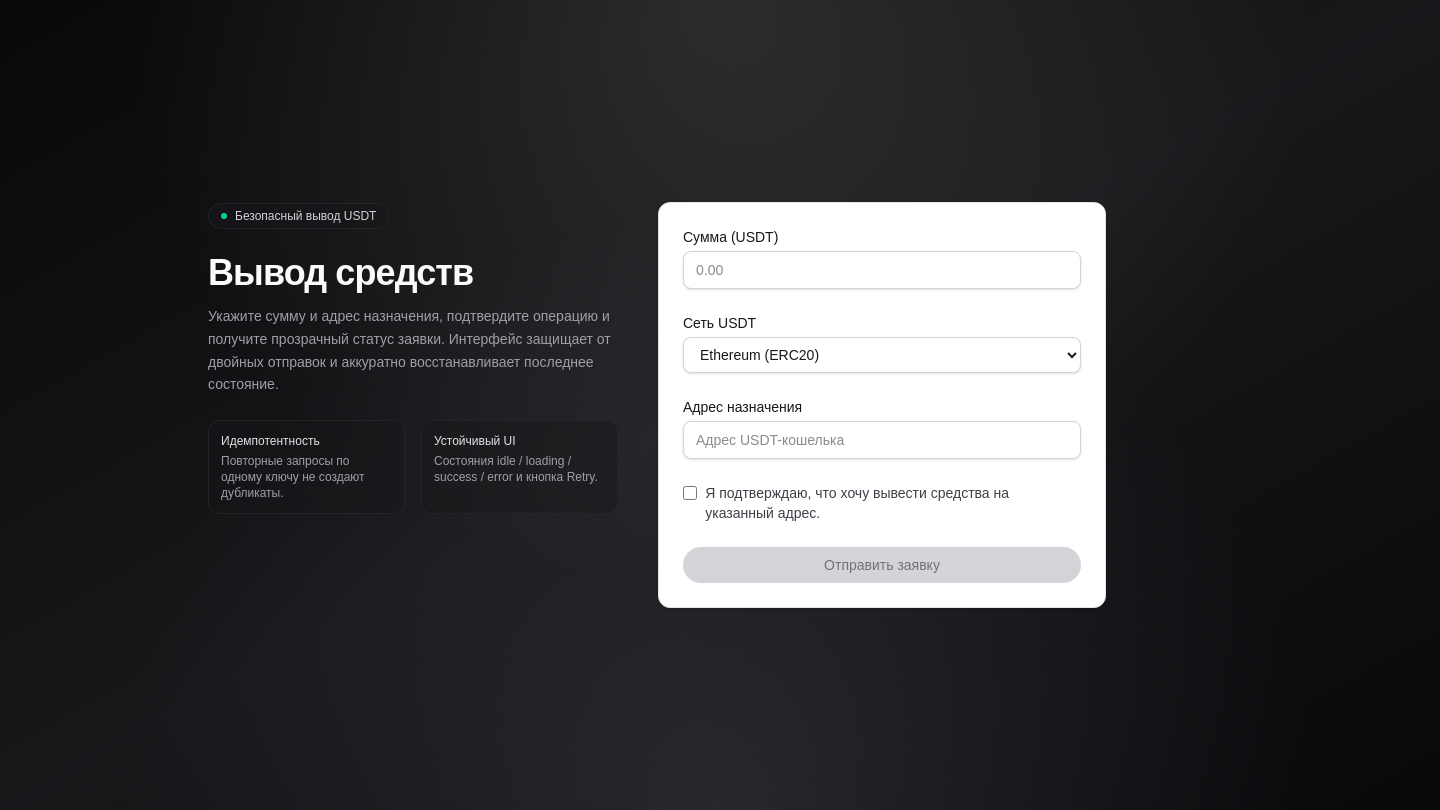
WithdrawPage - API error › shows error message when API returns error and preserves form data
Type "50" into the number field labelled "Сумма (USDT)" at {"x": 882, "y": 270}, box 683,251 -> 1081,289
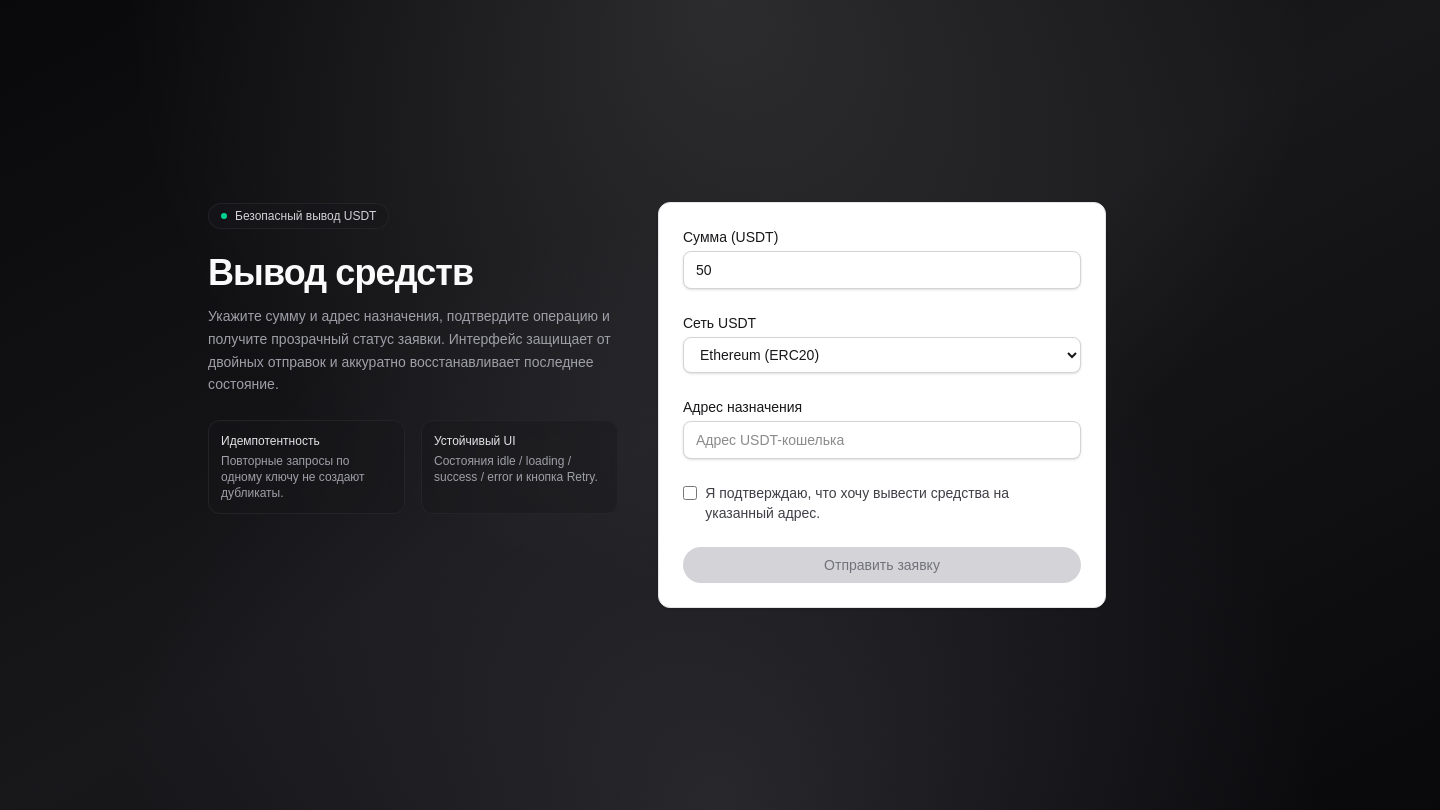
Type "wallet-err" into the field labelled "Адрес назначения" at {"x": 882, "y": 440}, box 683,421 -> 1081,459
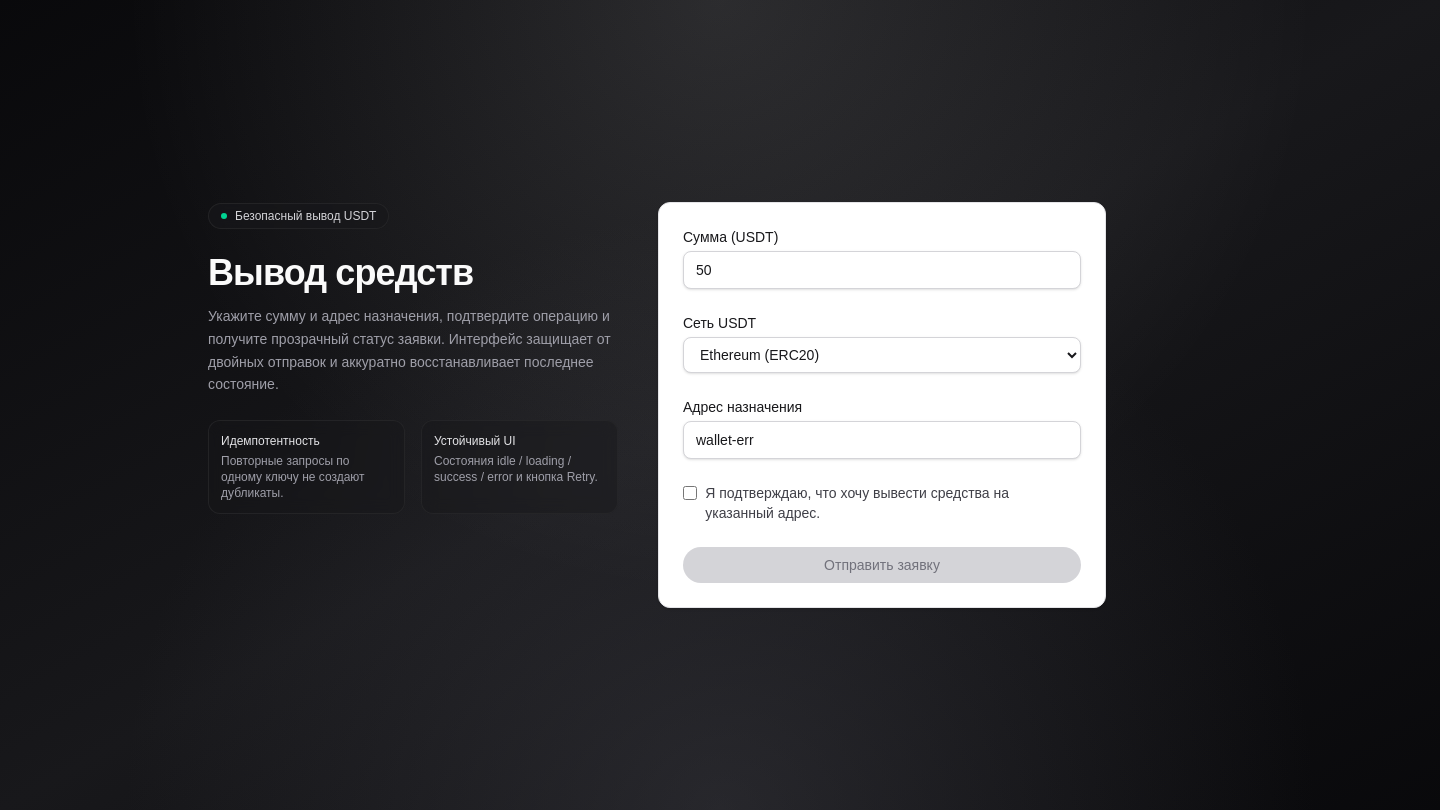
Click the checkbox labelled "Я подтверждаю, что хочу вывести средства на указанный адрес." at {"x": 690, "y": 493}, box 683,485 -> 697,501
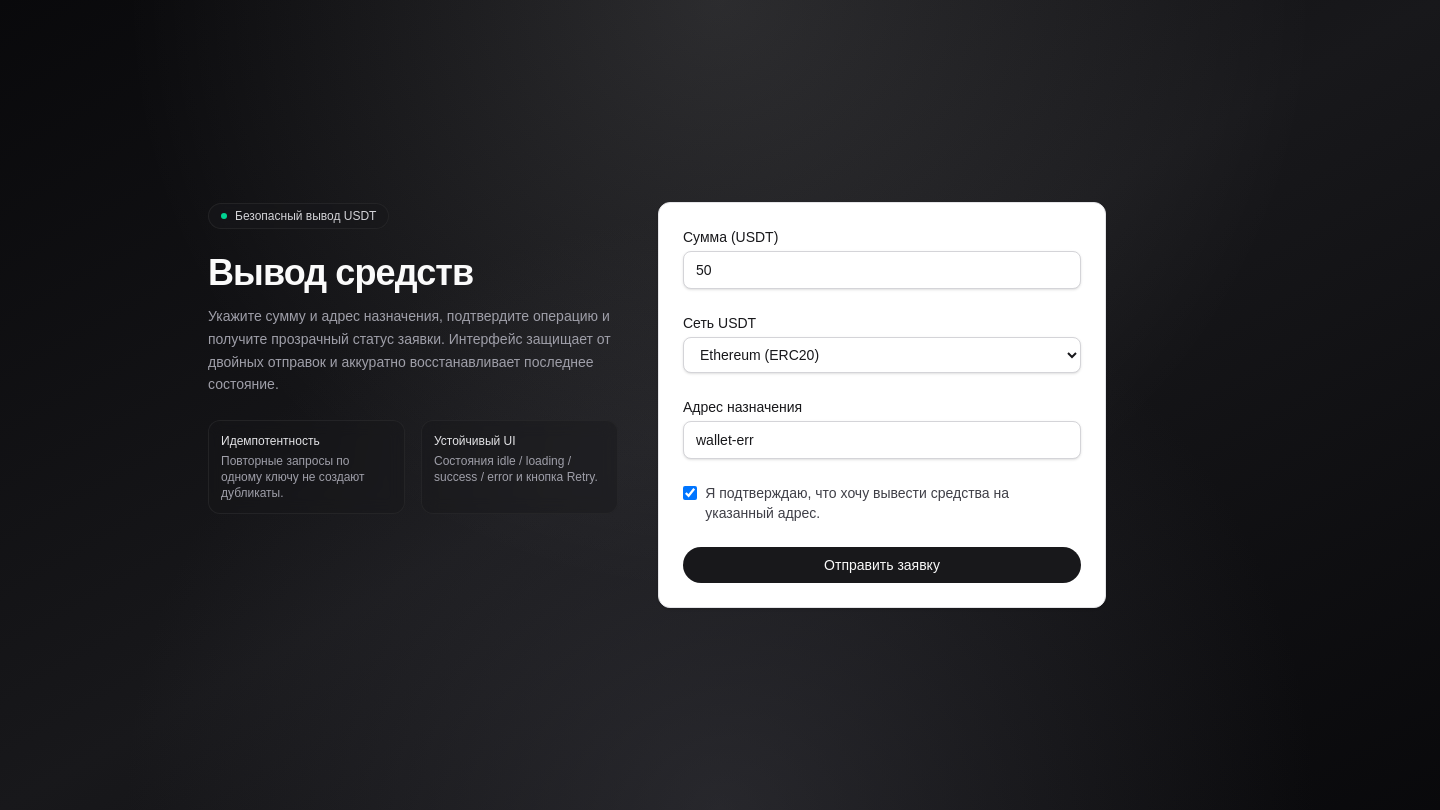
Click the button "Отправить заявку" at {"x": 882, "y": 565}, box 683,547 -> 1081,583
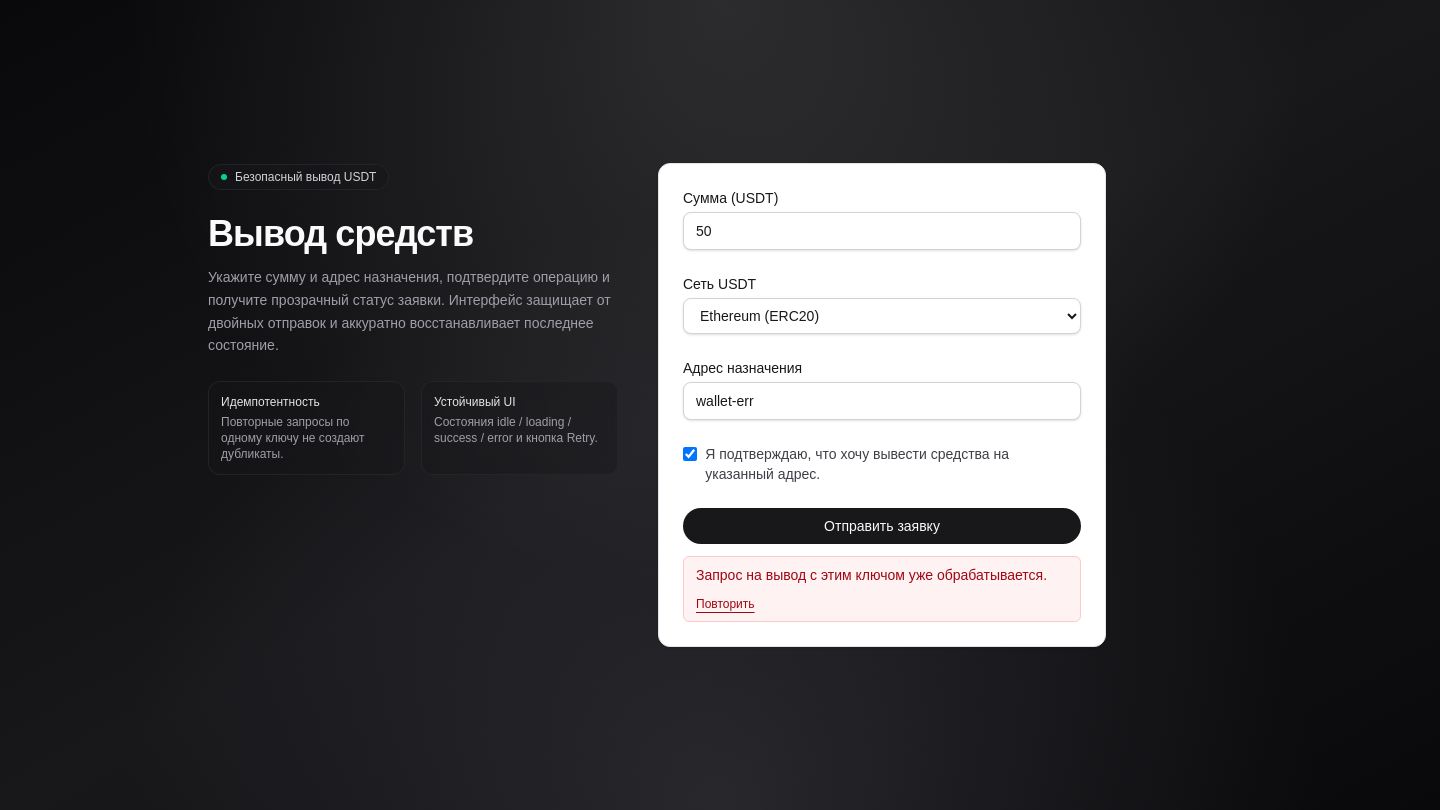
expect the text "Запрос на вывод с этим ключом уже обрабатывается." is shown: met, box 696,565 -> 1068,585
